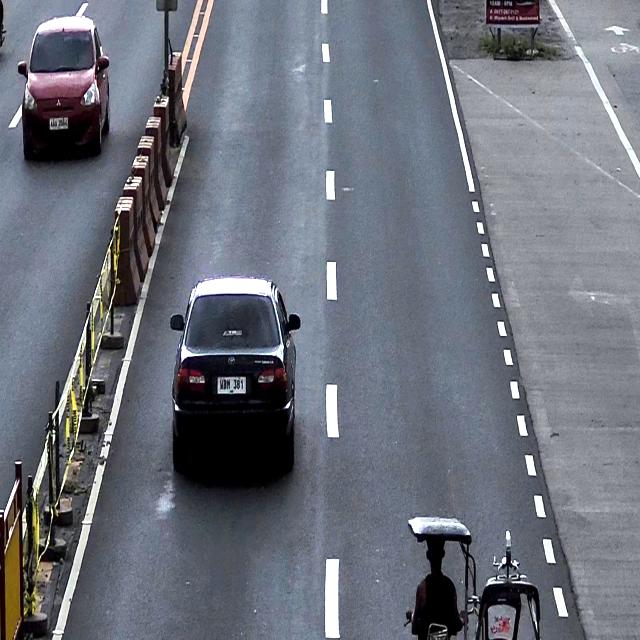Car: (170, 276, 300, 474), (17, 12, 110, 160)
License-Plate: (216, 374, 247, 396), (49, 117, 69, 130)
Tricycle: (405, 515, 541, 640)
